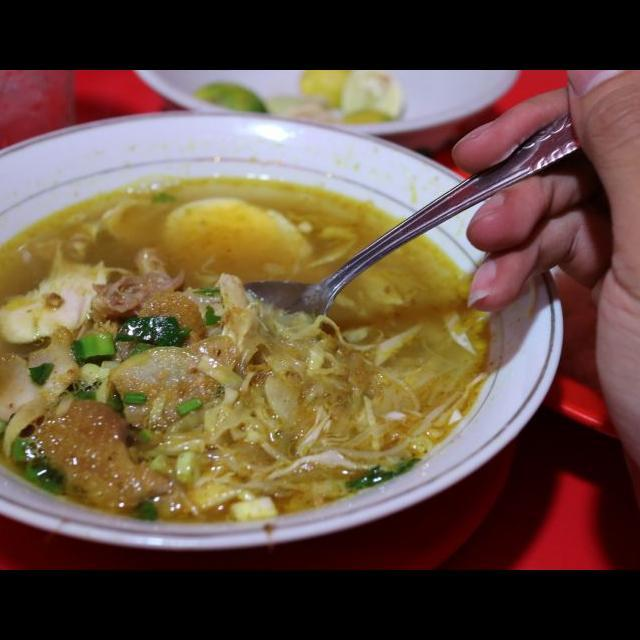Soto: (0, 180, 500, 524)
